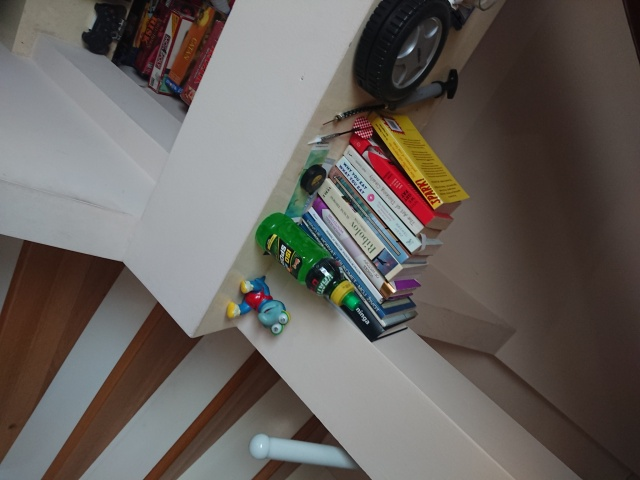Vindi Iso Sport Lemon-Grapefruit 500mL: (252, 210, 363, 313)
